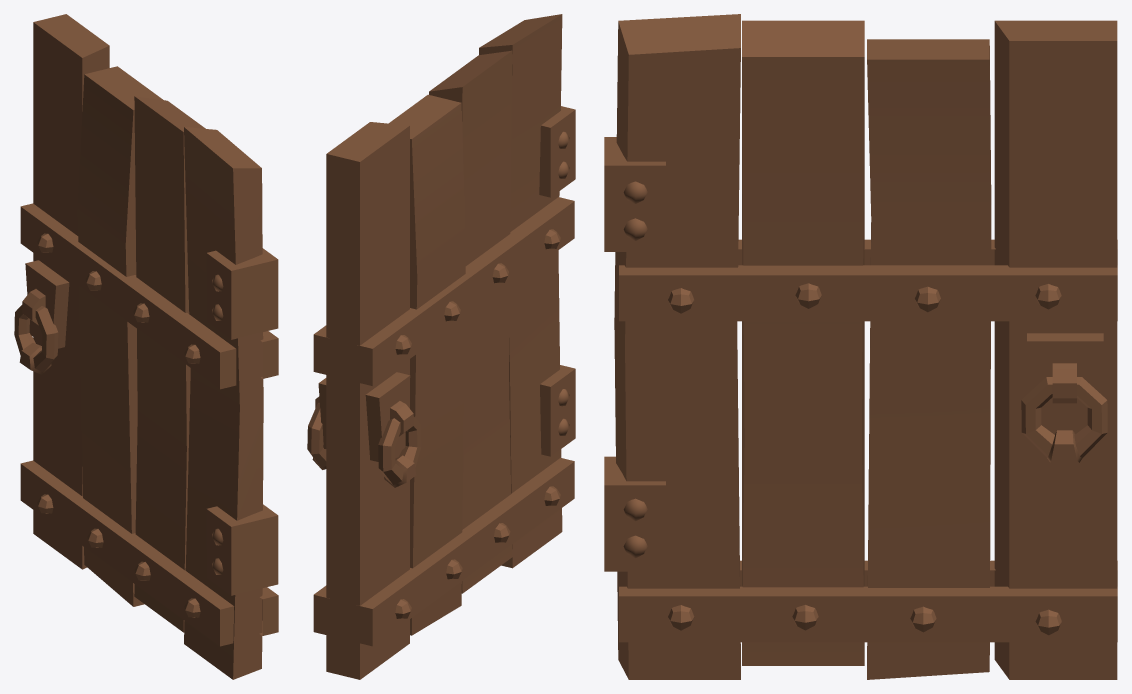
File: handle door 1.fbx
The picture shows the model from 3 angles, left to right: view 1: azimuth 30°, elevation 25°; view 2: azimuth 150°, elevation 25°; view 3: azimuth 270°, elevation 25°; orthographic projection. The views are drawn at different scales.
Parts seen in each view (by area): view 1: polySurface380; view 2: polySurface380; view 3: polySurface380.
Boxes of the visible parts, bbox=[...] form: polySurface380: bbox=[14, 14, 278, 679]; polySurface380: bbox=[307, 14, 575, 679]; polySurface380: bbox=[604, 14, 1117, 679].
Size of the model in its own units: 0.4109 by 2.19 by 1.58.
